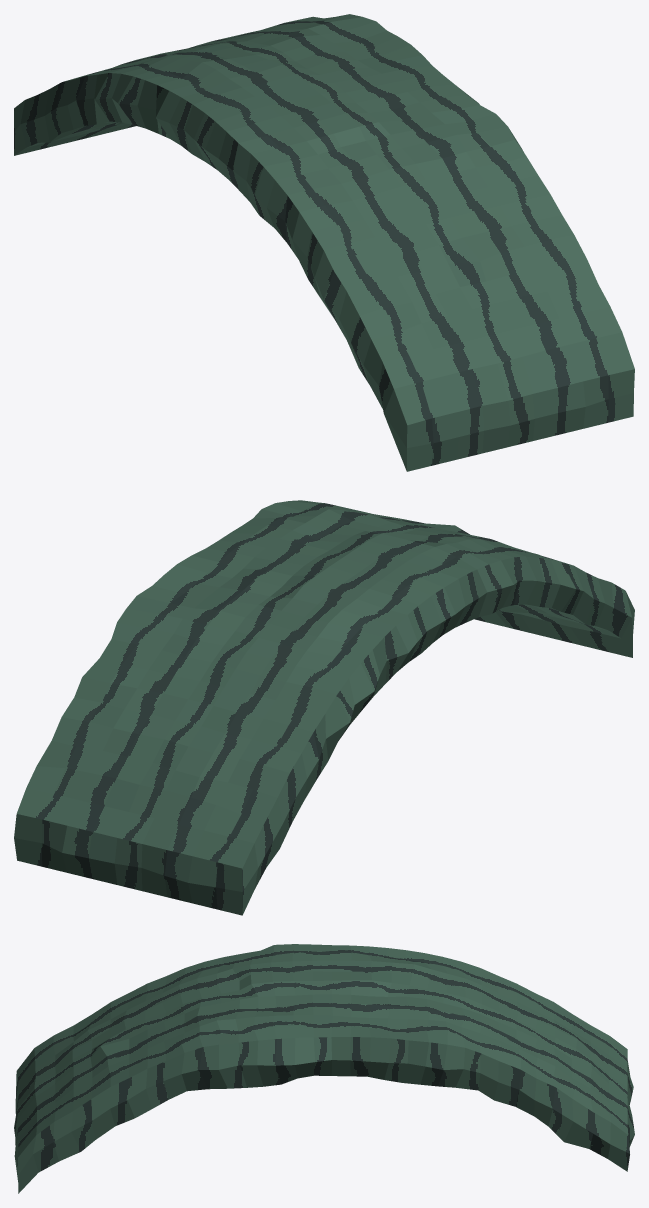
Rendered from Stonebridge.fbx.
3 renders of one model, top to bottom at view 1: azimuth 30°, elevation 25°; view 2: azimuth 150°, elevation 25°; view 3: azimuth 270°, elevation 25°, orthographic. The views are drawn at different scales.
Visible parts, largest first — view 1: Cube; view 2: Cube; view 3: Cube.
Boxes of the visible parts, left/top/right/bottom form: Cube: left=14, top=14, right=634, bottom=471; Cube: left=14, top=500, right=634, bottom=915; Cube: left=14, top=944, right=634, bottom=1193.
Size of the model in its own units: 466 by 363 by 1223.
